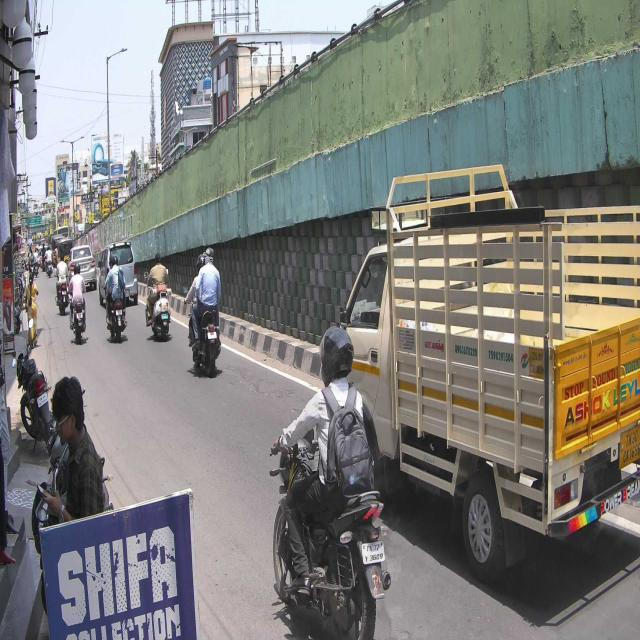double_rider: (182, 245, 222, 376)
single_rider: (268, 323, 393, 640)
